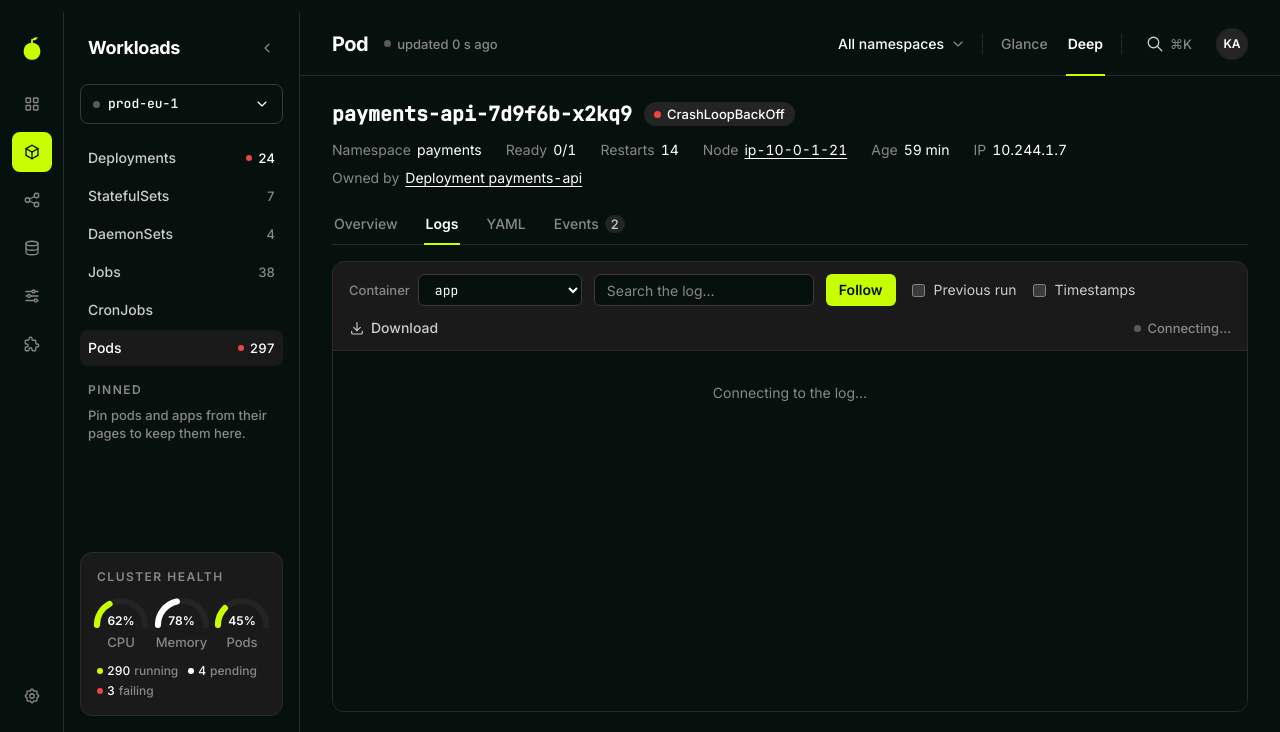
it: Log viewer › Deep: previous run, container picker and download
Click the checkbox labelled "Previous run" at (918, 290), box [912,284,924,296]
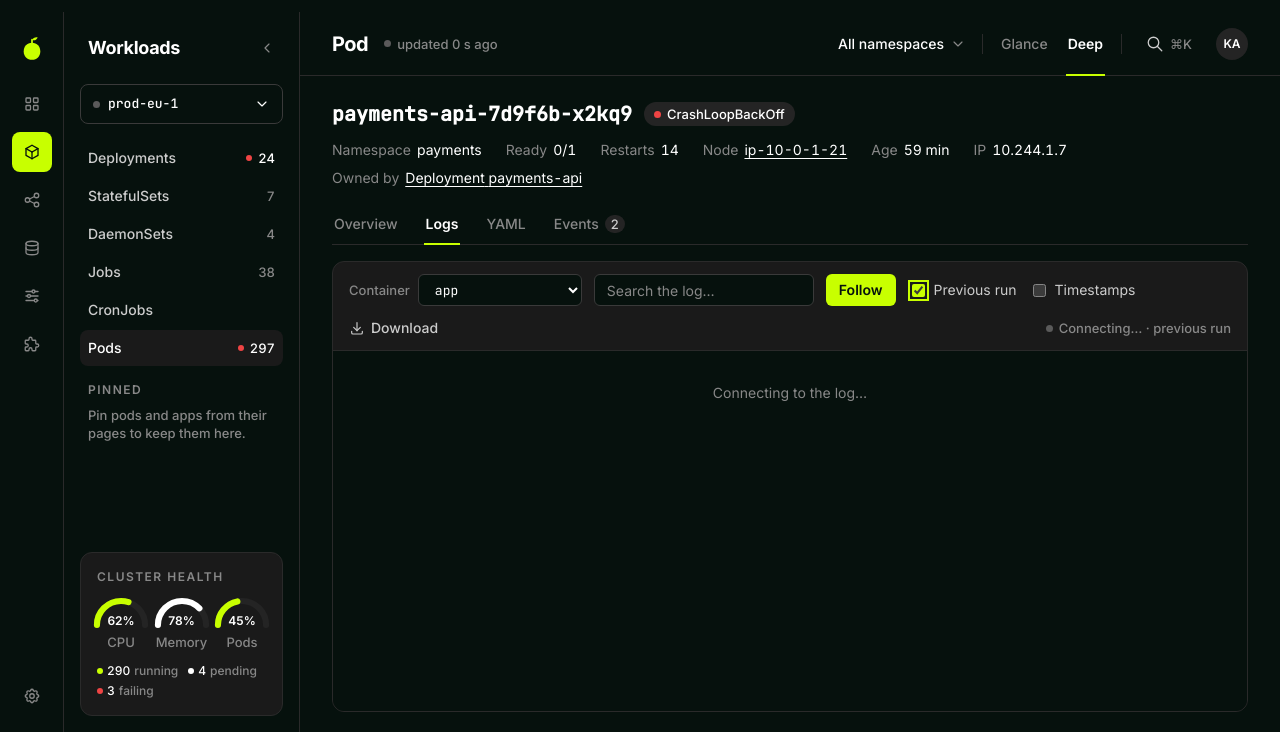
Select "proxy (sidecar)" in the dropdown labelled "Container" at (500, 290), box [418,274,582,306]
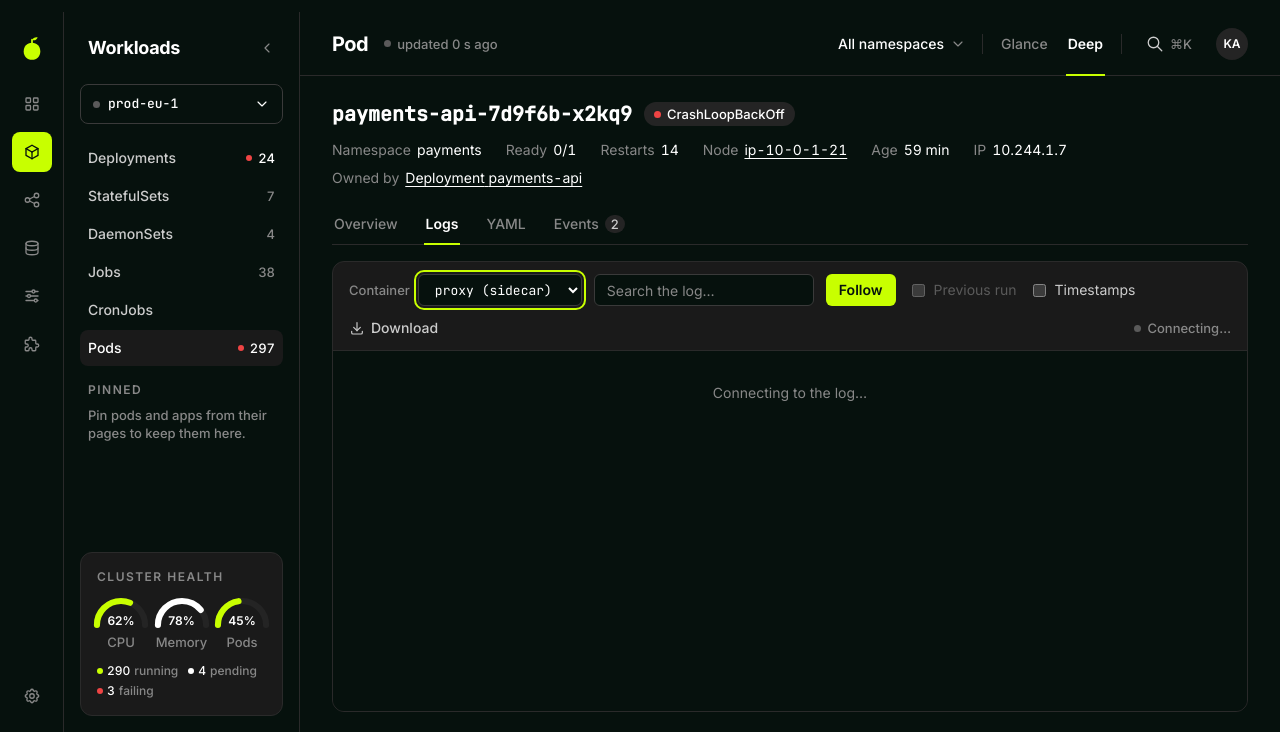
expect the checkbox labelled "Previous run" is disabled: met, box [912,284,924,296]
